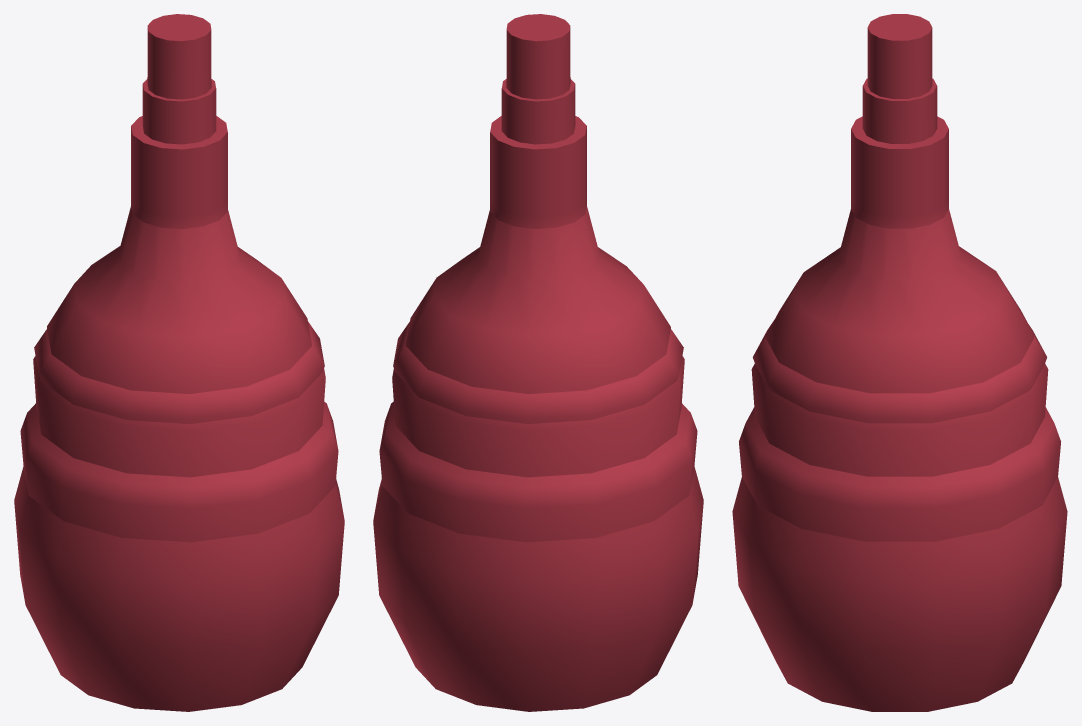
Rendered from Bottlesr.fbx.
3 views of the same model, side by side, from view 1: azimuth 30°, elevation 25°; view 2: azimuth 150°, elevation 25°; view 3: azimuth 270°, elevation 25° (orthographic).
Visible parts, largest first — view 1: BarTop.004, BarTop.002, BarTop.001, BarTop.008, BarTop.006, BarTop.003; view 2: BarTop.004, BarTop.002, BarTop.001, BarTop.006, BarTop.008, BarTop.003; view 3: BarTop.004, BarTop.002, BarTop.001, BarTop.006, BarTop.008, BarTop.003.
Part boxes in pixels (x1,y1,x2,y2): BarTop.004: (14,79,344,711); BarTop.002: (47,116,311,393); BarTop.001: (20,402,338,542); BarTop.008: (34,205,324,423); BarTop.006: (33,356,325,477); BarTop.003: (147,14,211,99); BarTop.004: (373,79,703,711); BarTop.002: (406,116,670,393); BarTop.001: (379,402,697,542); BarTop.006: (392,356,684,477); BarTop.008: (393,205,683,423); BarTop.003: (506,14,570,99); BarTop.004: (732,78,1067,711); BarTop.002: (766,116,1033,393); BarTop.001: (739,407,1060,541); BarTop.006: (751,363,1048,476); BarTop.008: (752,209,1047,423); BarTop.003: (867,14,932,98).
Bounding box in the file's own units: 24.36 × 52.09 × 24.98.
